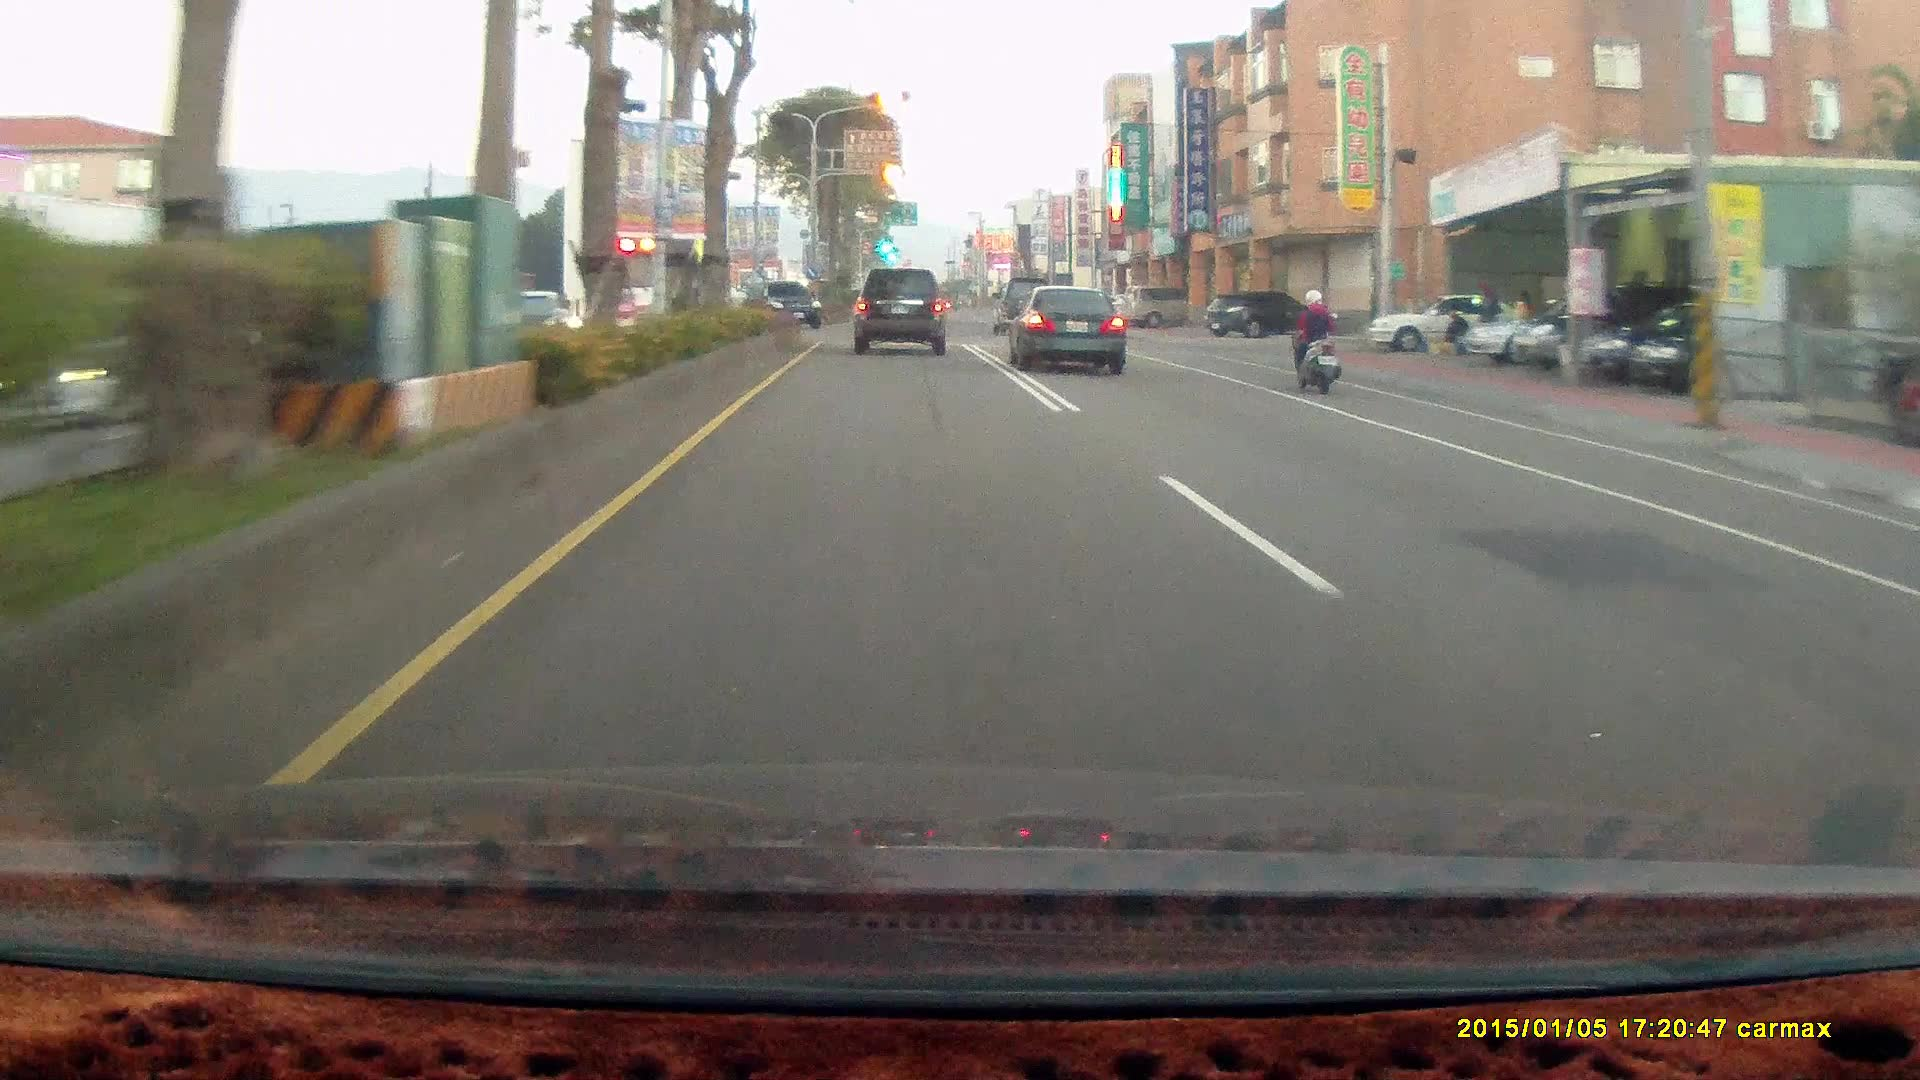pedestrian: (1477, 282, 1498, 343), (1444, 308, 1471, 354)
rider: (1275, 276, 1353, 404), (1284, 287, 1342, 394)
vehicle: (1634, 302, 1836, 397), (1577, 301, 1772, 386), (1508, 285, 1679, 369), (600, 234, 721, 339), (1361, 285, 1536, 358), (1464, 296, 1632, 365), (1019, 291, 1134, 387), (1005, 283, 1126, 373), (1367, 291, 1526, 352), (853, 272, 951, 362), (852, 268, 946, 354), (1208, 292, 1320, 347), (1202, 289, 1316, 338), (746, 280, 826, 333), (1120, 283, 1207, 329), (748, 279, 824, 329), (988, 278, 1053, 333)
